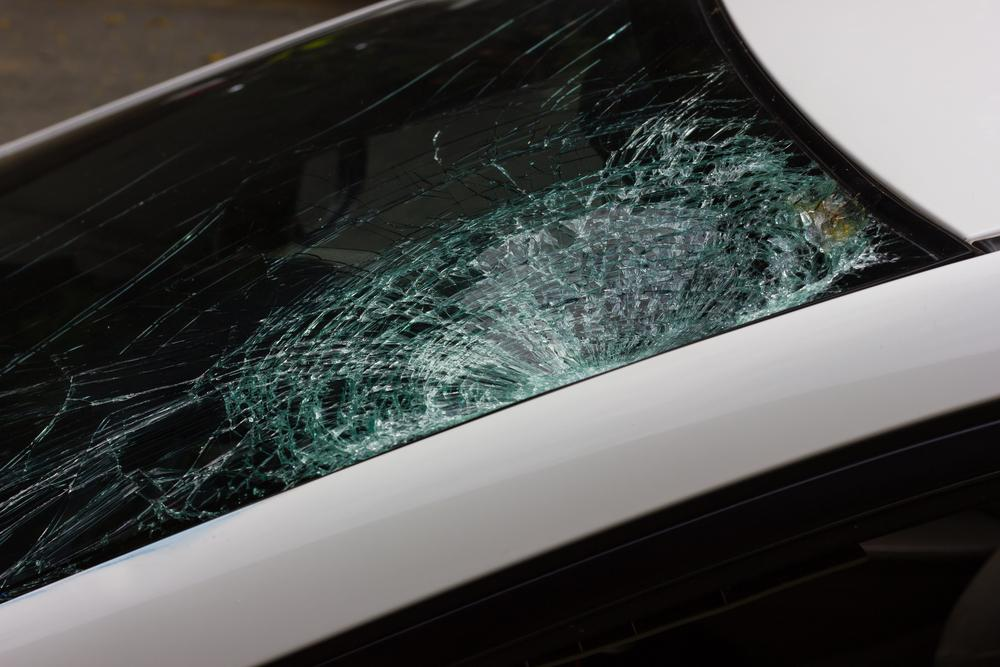glass shatter: (0, 0, 982, 603)
